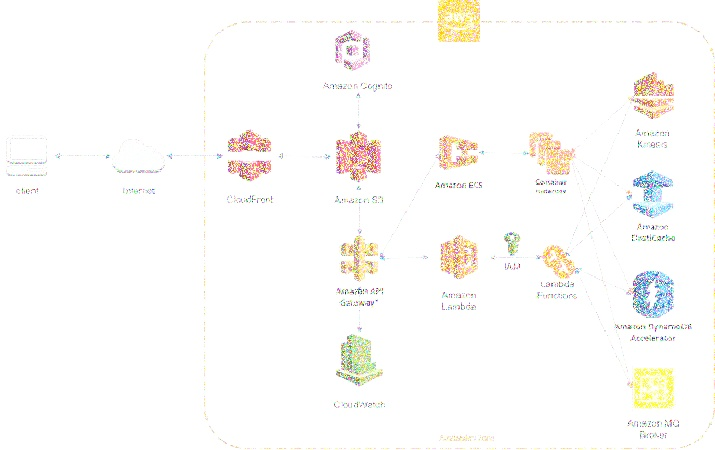API-Gateway: (336, 233, 382, 283)
Cloud Watch: (331, 329, 388, 389)
Cloudfront: (223, 124, 276, 182)
Cognito: (330, 25, 375, 75)
Dynamo DB: (630, 263, 680, 319)
EC2: (525, 125, 573, 179)
ElastiCache: (631, 162, 677, 221)
Elastic Container Service: (435, 129, 480, 172)
IAM: (499, 219, 526, 257)
Internet: (113, 135, 167, 175)
Kinesis Data Streams: (629, 67, 680, 122)
Lambda: (436, 228, 482, 283), (542, 242, 566, 267), (555, 258, 575, 281)
MQ: (629, 360, 682, 415)
S3: (332, 130, 389, 186)
Web Clients: (3, 127, 54, 185)
aws: (433, 0, 490, 47)
